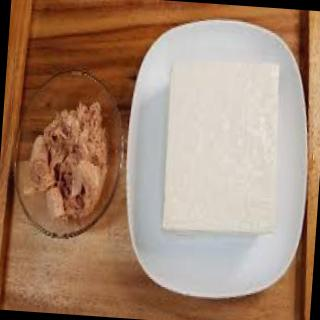Tahu: (152, 53, 293, 246)
